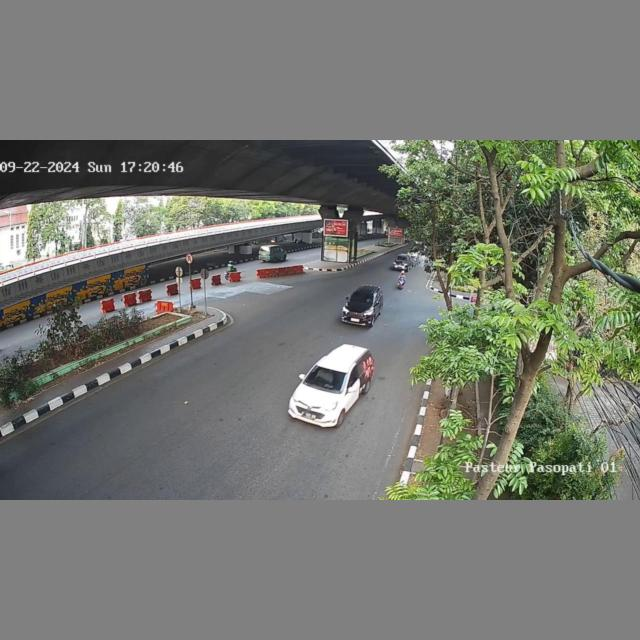windshield: (304, 365, 347, 391), (350, 290, 374, 304)
